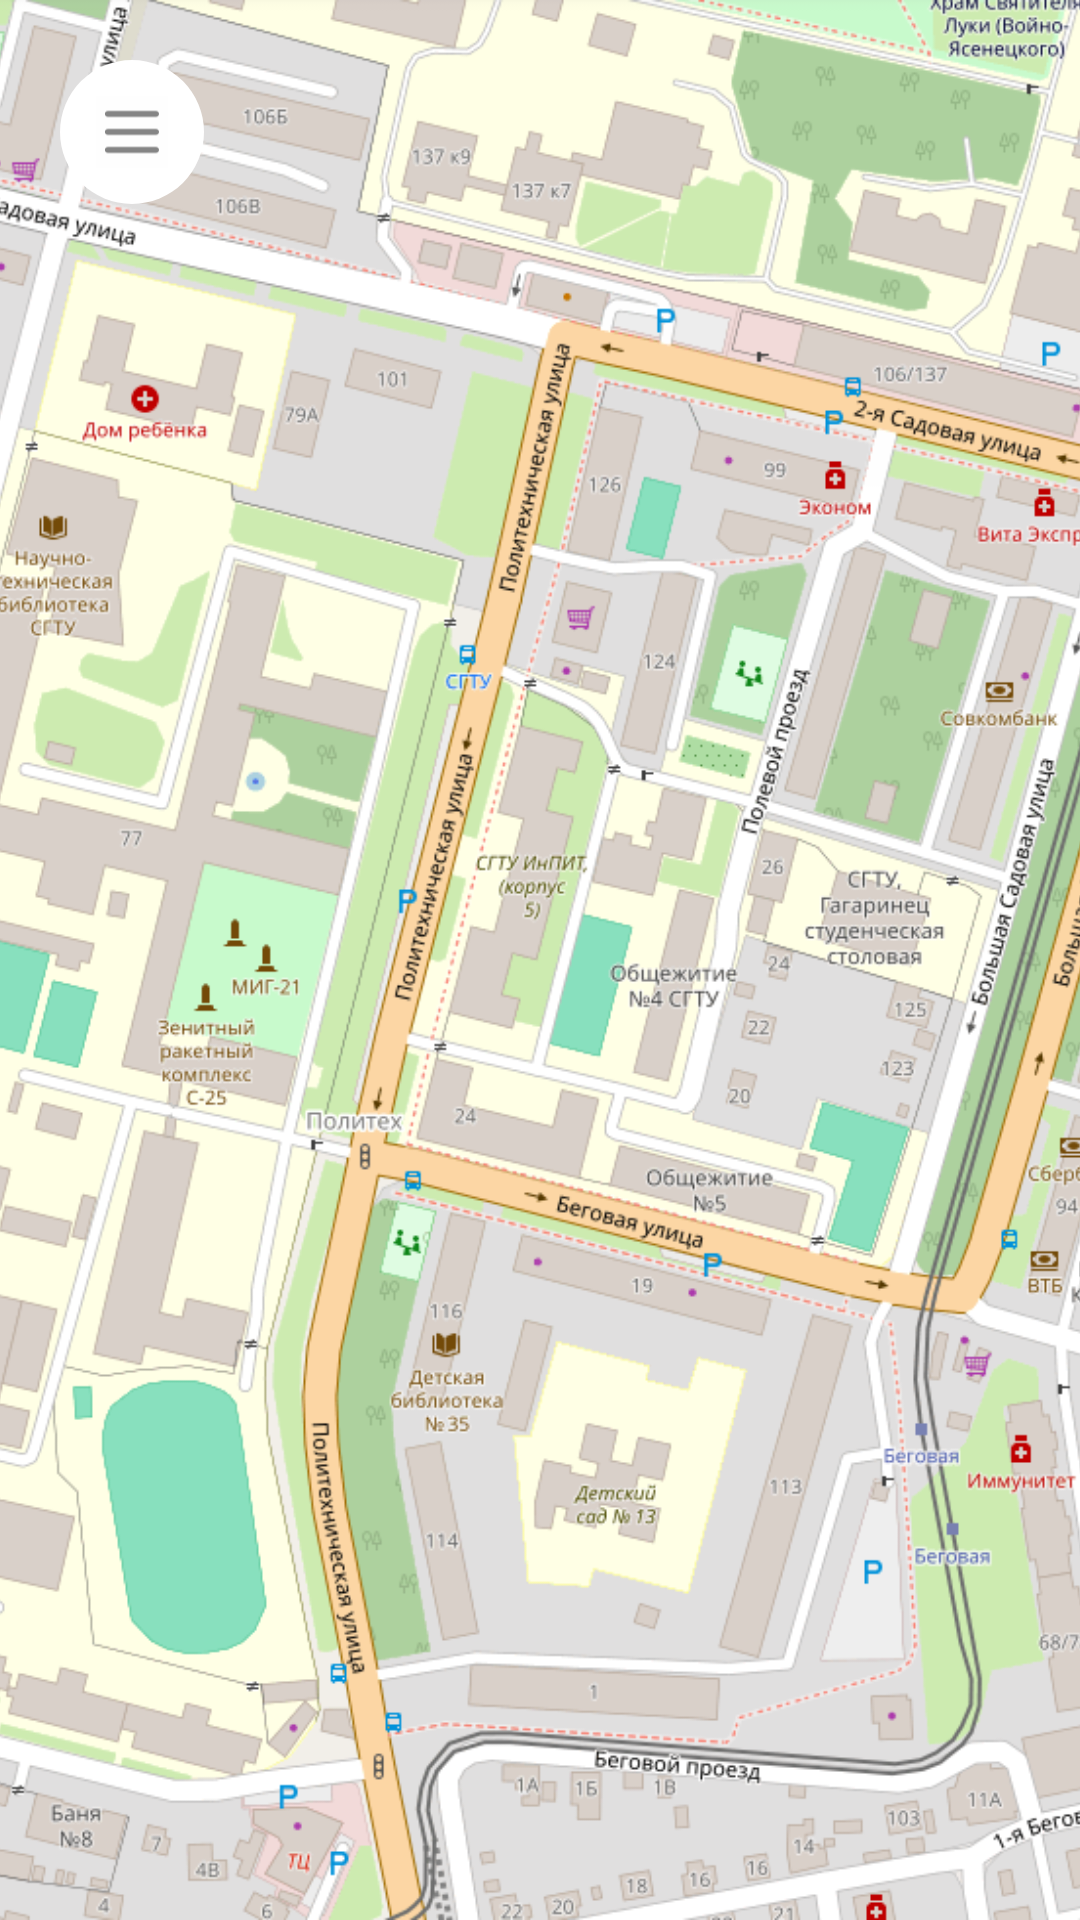

Where icons sit on this 1080×1920 app screen, as (x1, y1, x2, y2):
hamburger: (60, 60, 204, 204)
